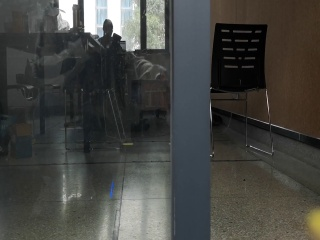room: (1, 3, 319, 235)
